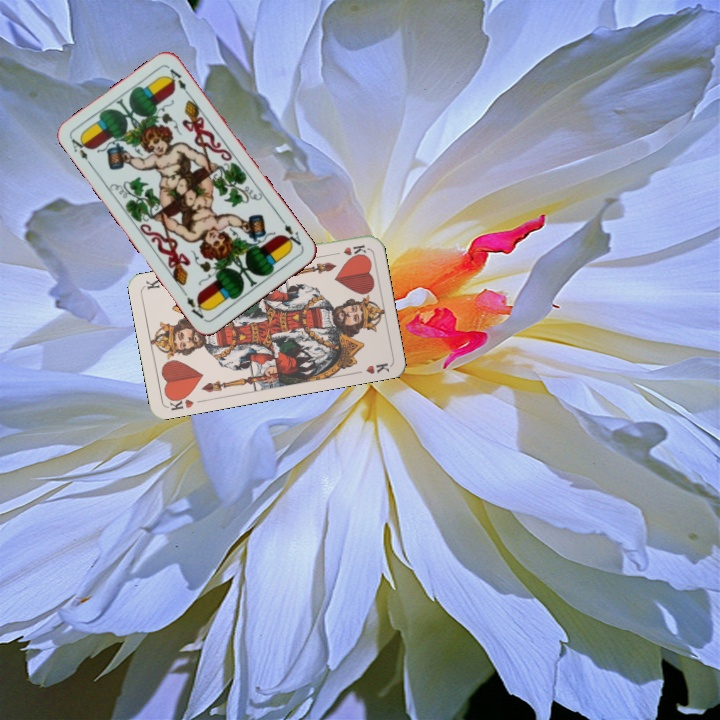EA: (276, 215, 306, 250), (67, 133, 95, 169)
HK: (164, 390, 196, 413), (328, 240, 368, 258)
